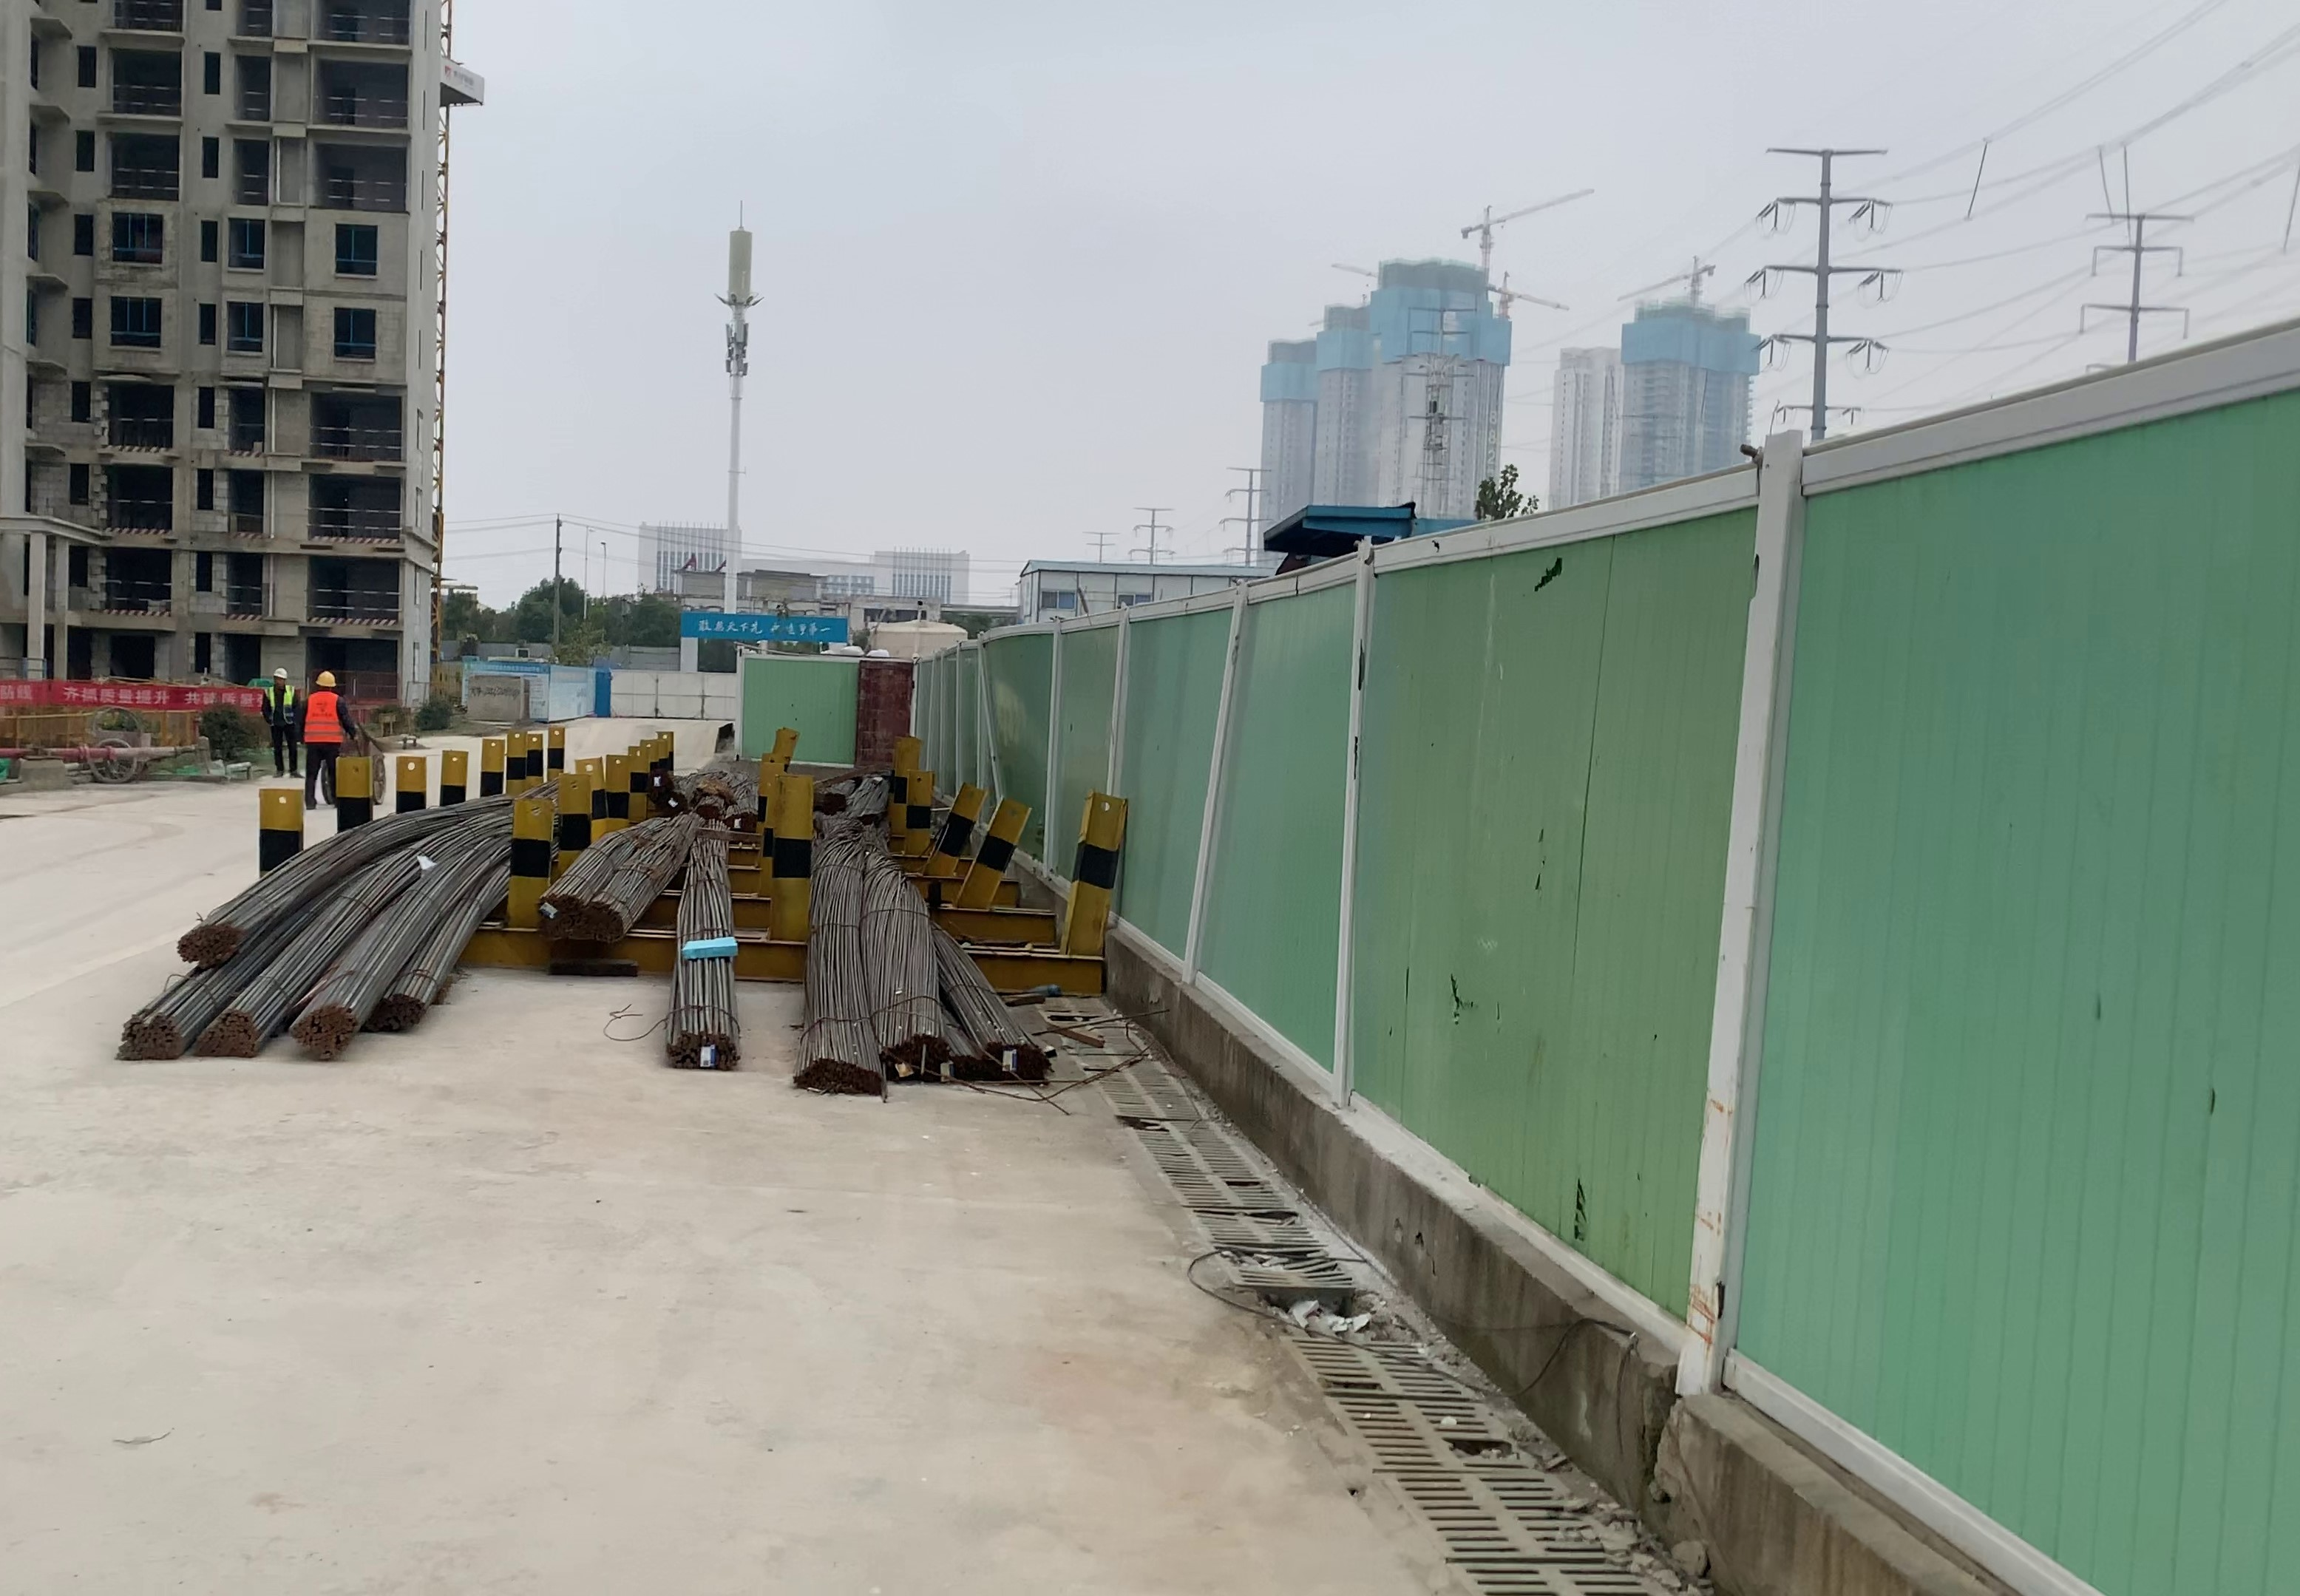rebar: (790, 1054, 888, 1103), (963, 1037, 1043, 1084), (664, 1024, 745, 1070), (288, 1007, 362, 1056), (196, 1012, 266, 1061), (121, 1010, 182, 1063), (173, 921, 243, 963), (883, 1033, 946, 1079), (540, 893, 582, 946), (371, 996, 426, 1031), (589, 895, 627, 944)
